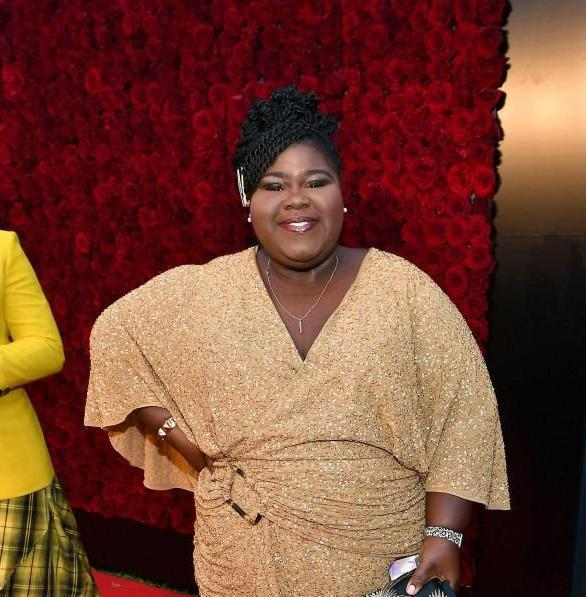Sober: (259, 148, 341, 246)
